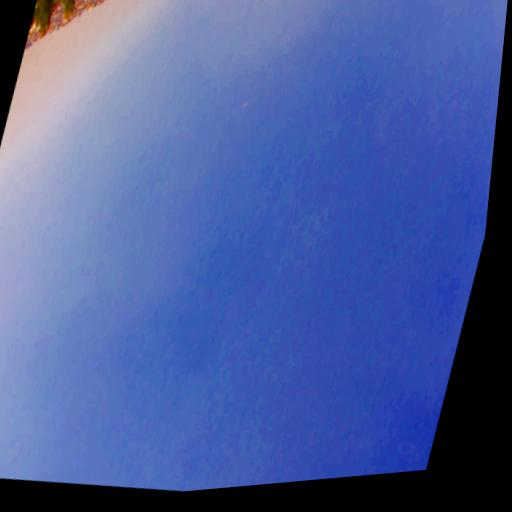drones: (242, 100, 249, 107)
